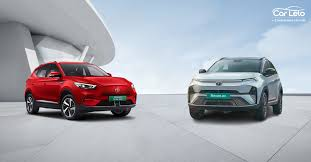Tata Nexon: (187, 54, 283, 122)
